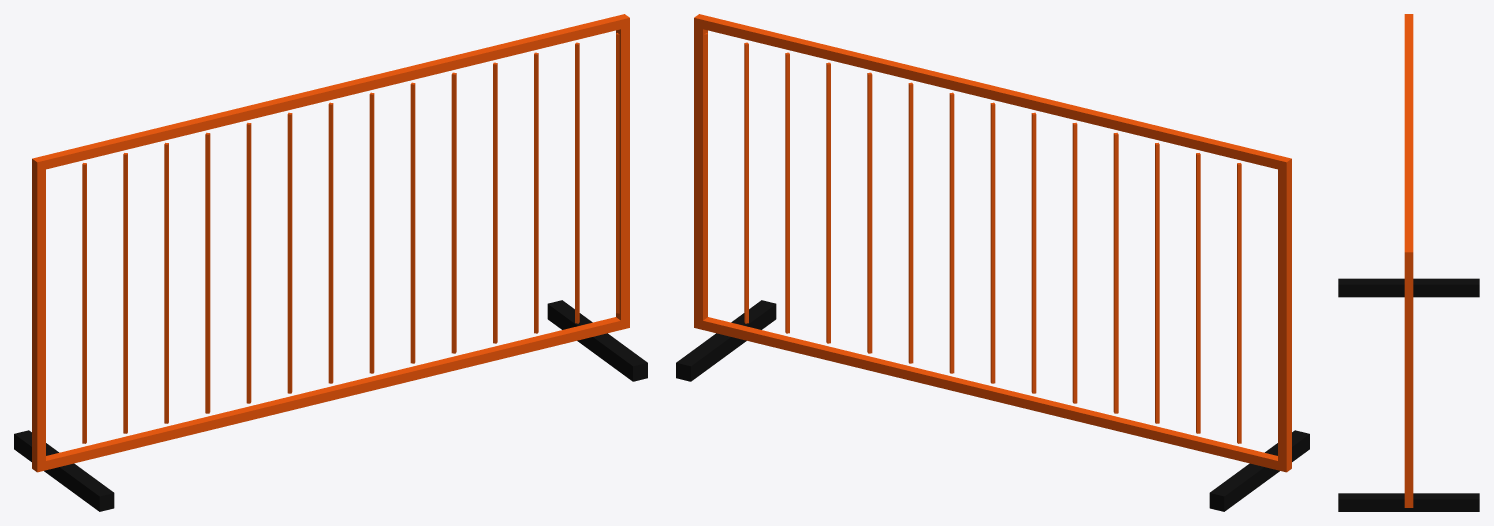
The model's file is plant.fence.pedestrian_barrier.glb.
3 renders of one model, left to right at view 1: azimuth 30°, elevation 25°; view 2: azimuth 150°, elevation 25°; view 3: azimuth 270°, elevation 25°, orthographic. The views are drawn at different scales.
Visible parts, largest first — view 1: main__hivis_orange, main__plastic_black; view 2: main__hivis_orange, main__plastic_black; view 3: main__plastic_black, main__hivis_orange.
Boxes of the visible parts, <box> form: main__hivis_orange: <box>32,14,629,472</box>; main__plastic_black: <box>14,300,647,511</box>; main__hivis_orange: <box>694,14,1291,472</box>; main__plastic_black: <box>676,300,1309,511</box>; main__plastic_black: <box>1338,278,1479,511</box>; main__hivis_orange: <box>1404,14,1413,507</box>.
Size of the model in its own units: 2 by 1.05 by 0.5.
